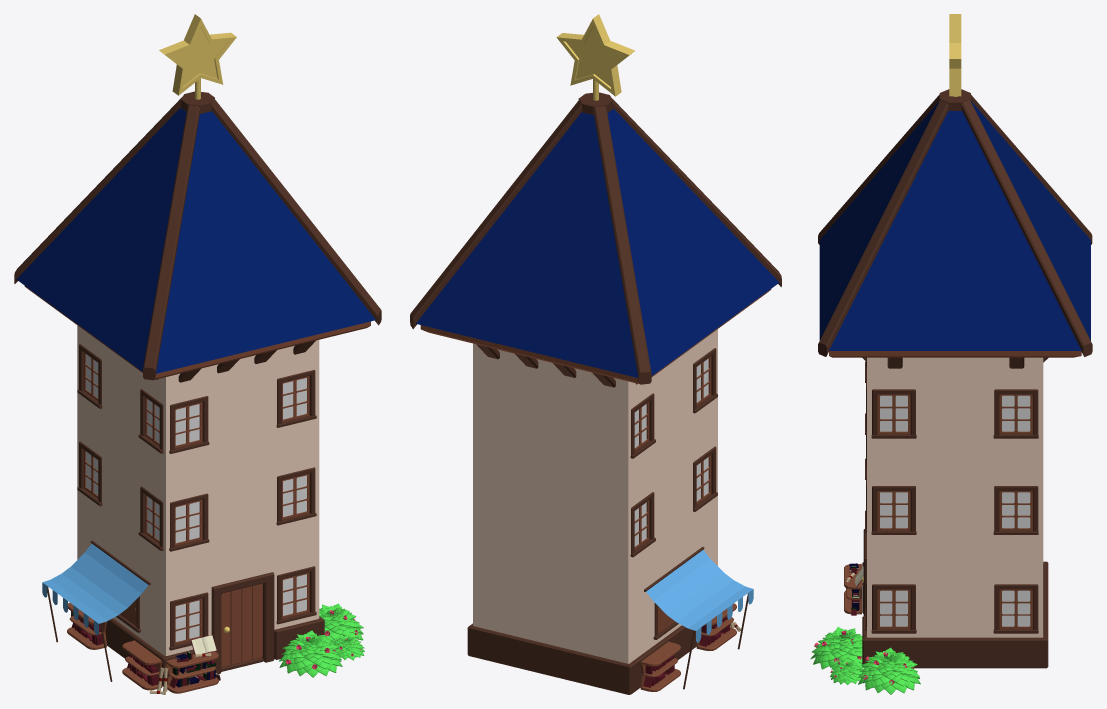
Rendered from MagicShop_Upgrade_2.fbx.
3 views of the same model, side by side, from view 1: azimuth 30°, elevation 25°; view 2: azimuth 150°, elevation 25°; view 3: azimuth 270°, elevation 25° (orthographic).
Parts seen in each view (by area): view 1: Shop; view 2: Shop; view 3: Shop.
Part boxes in pixels (bbox=[...]): Shop: bbox=[14, 14, 381, 694]; Shop: bbox=[410, 14, 781, 694]; Shop: bbox=[810, 14, 1092, 694].
Size of the model in its own units: 806 by 1866 by 770.
